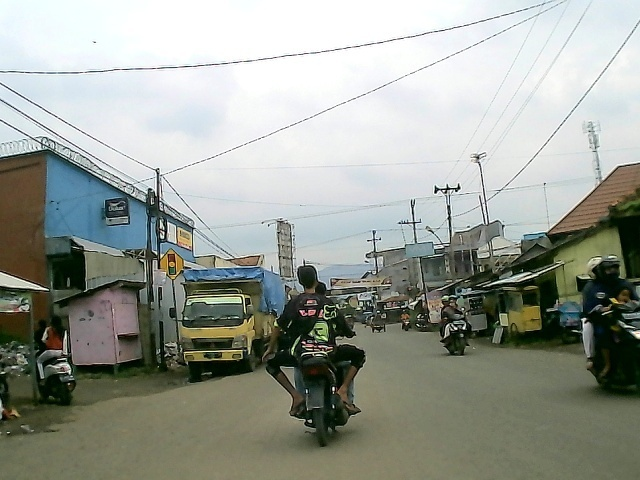Lampu isyarat: (155, 246, 189, 283)
